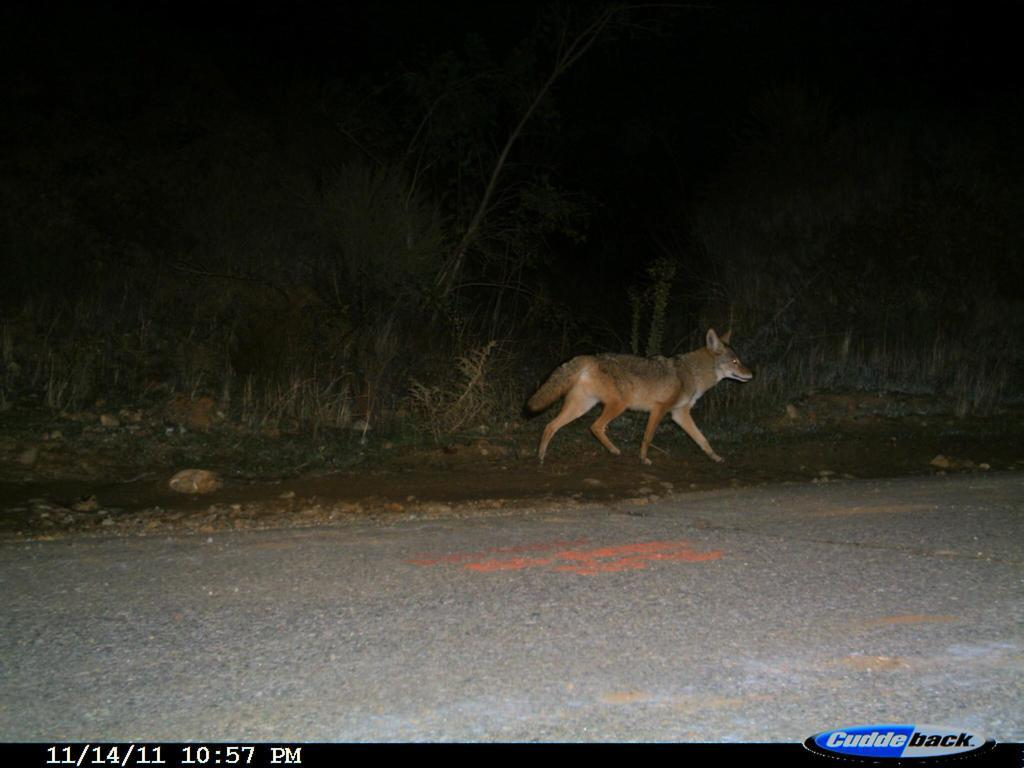coyote: (520, 321, 761, 470)
